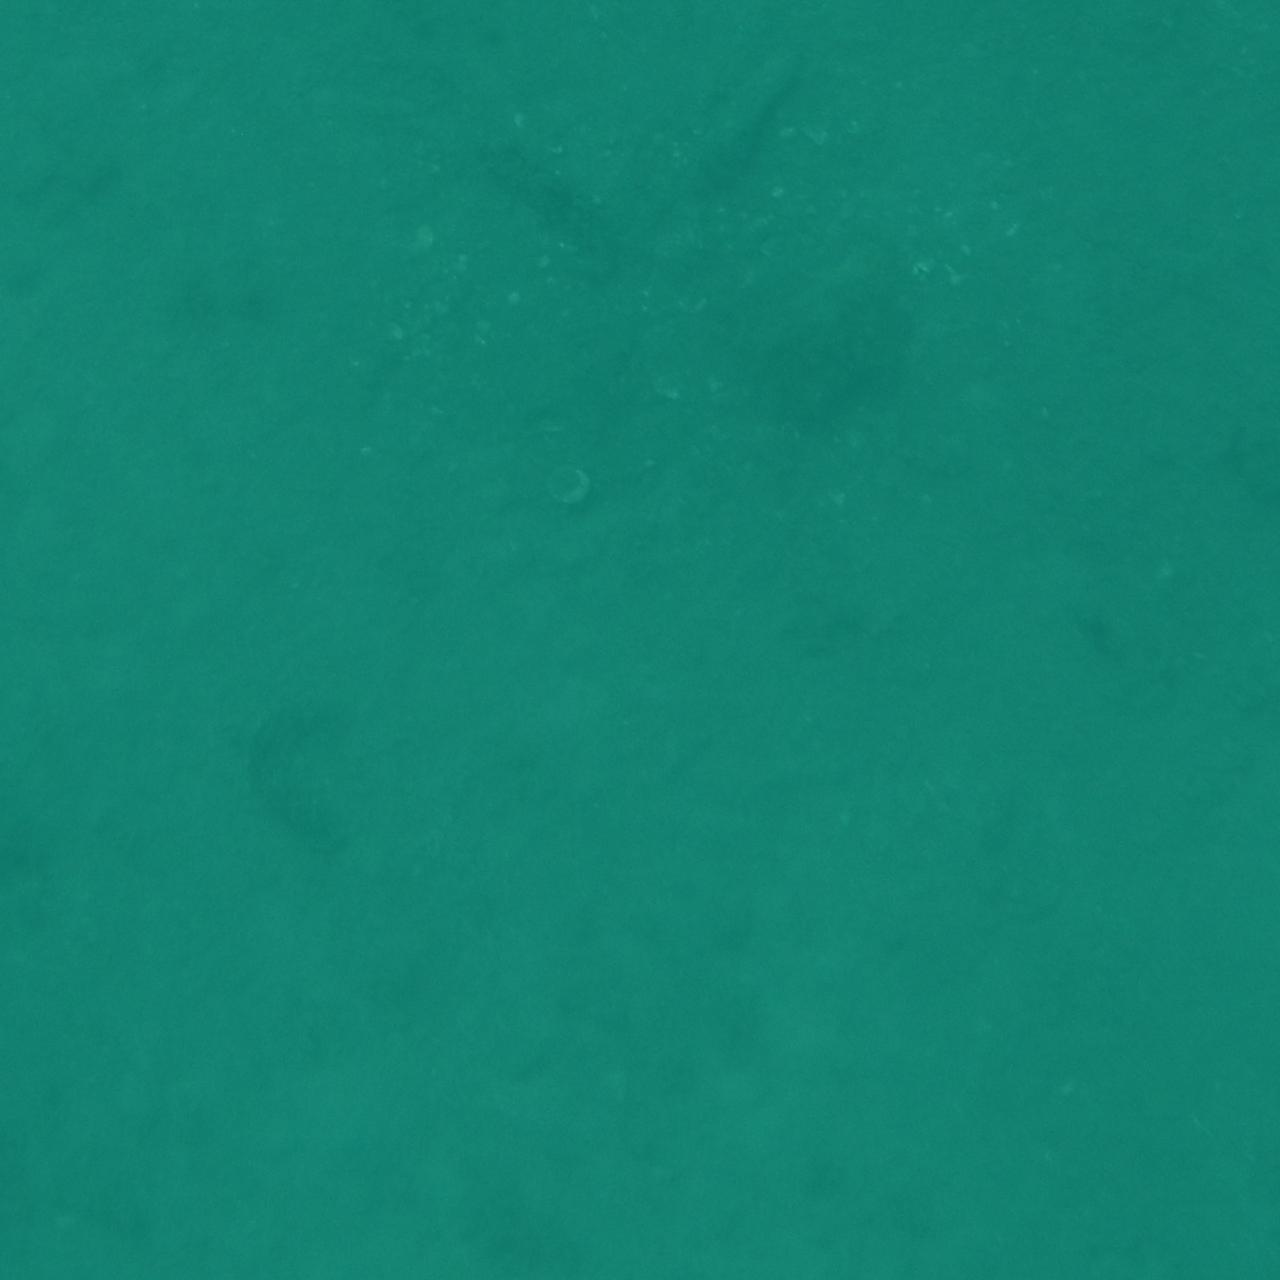Holothuria tubulosa: (665, 34, 891, 246), (211, 676, 381, 886), (1131, 442, 1280, 636), (223, 0, 397, 134), (1117, 238, 1280, 376), (0, 170, 120, 349), (0, 1157, 154, 1280), (0, 1026, 123, 1172), (1133, 982, 1280, 1096), (0, 517, 123, 631), (0, 1208, 144, 1271), (0, 1136, 86, 1226)
